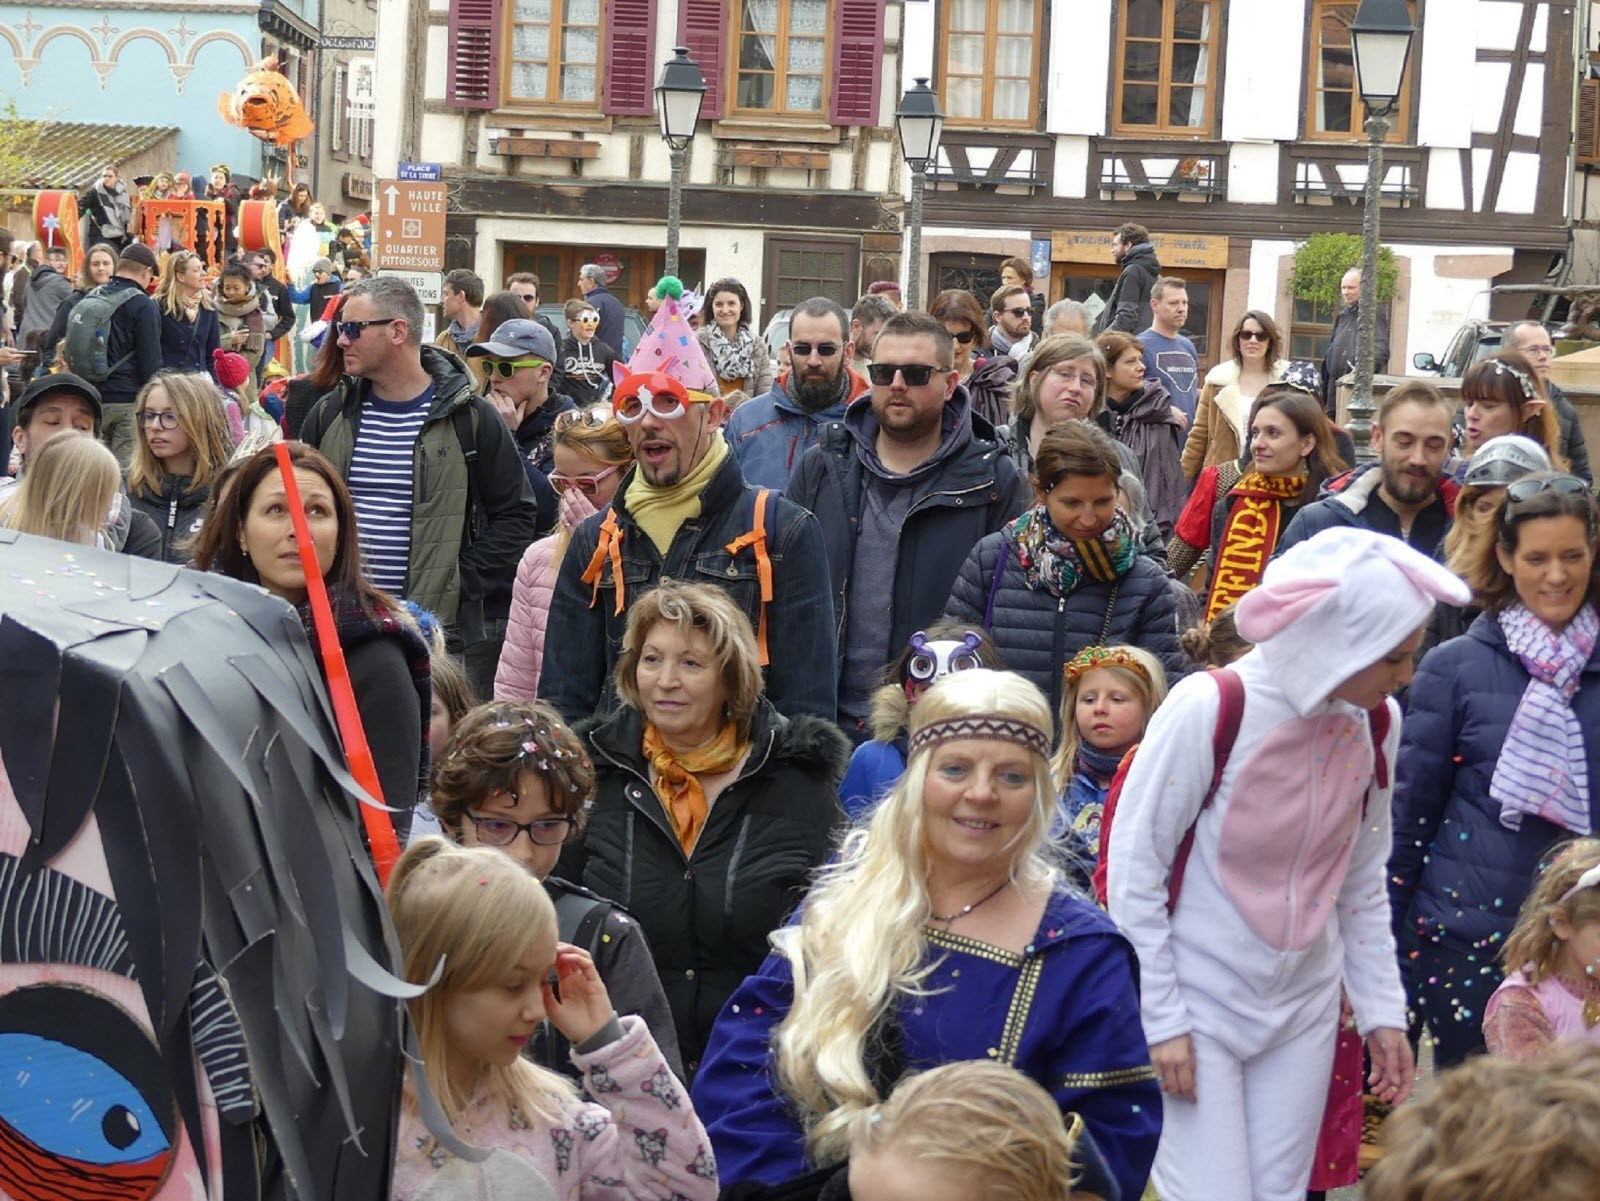without_mask: (473, 930, 553, 1066), (929, 751, 1030, 851), (461, 797, 568, 880), (256, 487, 328, 587), (623, 389, 695, 471), (869, 350, 955, 418), (1524, 528, 1585, 621), (646, 636, 711, 721), (1391, 421, 1446, 488), (1085, 674, 1133, 746), (1055, 479, 1114, 537), (1461, 393, 1515, 445), (1054, 361, 1097, 425), (136, 400, 183, 456), (1246, 418, 1297, 466), (794, 329, 836, 378), (1513, 329, 1550, 379), (1000, 297, 1035, 341), (1160, 283, 1191, 332), (565, 302, 601, 339), (711, 288, 744, 327), (1238, 323, 1265, 359), (181, 263, 201, 291), (219, 277, 246, 296), (92, 252, 110, 279)
